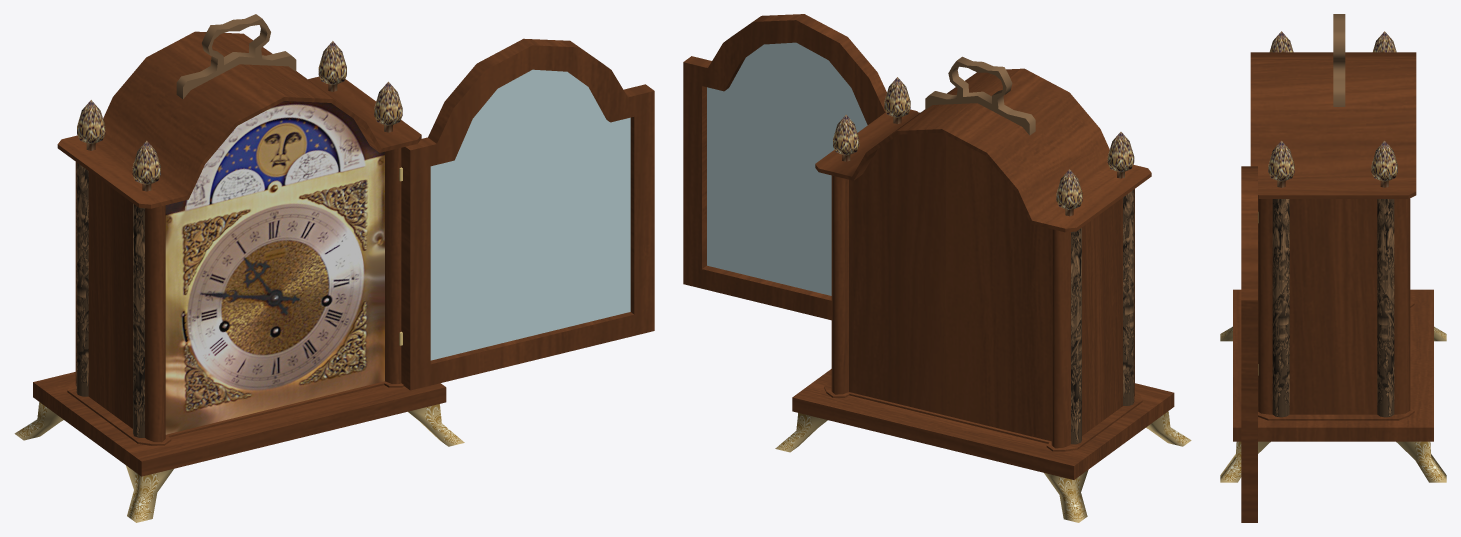
The model's file is clock.fbx.
3 views of the same model, side by side, from view 1: azimuth 30°, elevation 25°; view 2: azimuth 150°, elevation 25°; view 3: azimuth 270°, elevation 25° (orthographic). The views are drawn at different scales.
Visible parts, largest first — view 1: polySurface64; view 2: polySurface64; view 3: polySurface64.
Part boxes in pixels (bbox=[...]): polySurface64: bbox=[14, 14, 654, 522]; polySurface64: bbox=[683, 14, 1191, 522]; polySurface64: bbox=[1220, 14, 1446, 522].
Bounding box in the file's own units: 44.42 × 33.19 × 17.73.
1 material, 1 textured.
